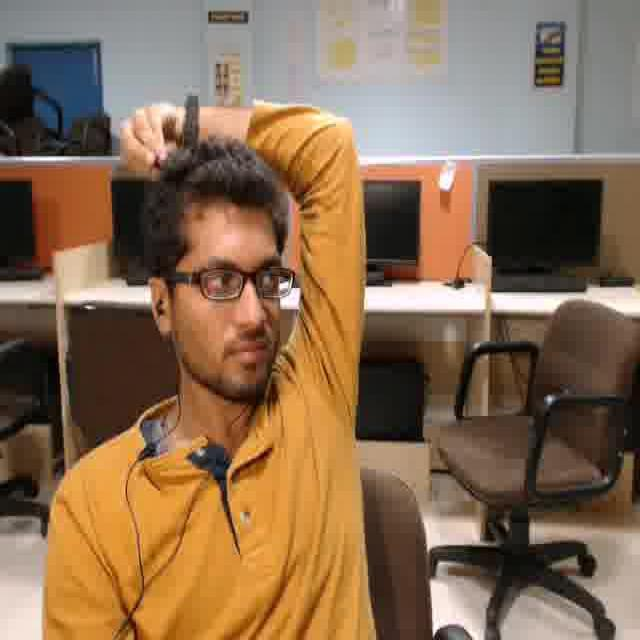Boredom: (174, 205, 279, 394)
